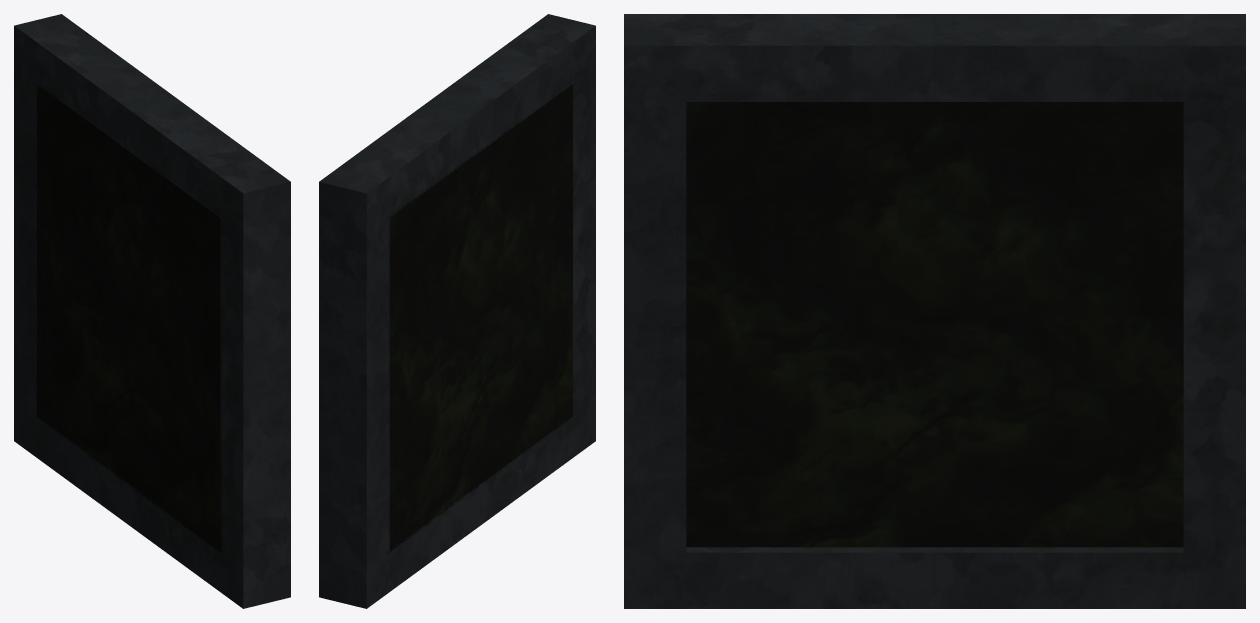
Rendered from tar.glb.
3 views of the same model, side by side, from view 1: azimuth 30°, elevation 25°; view 2: azimuth 150°, elevation 25°; view 3: azimuth 270°, elevation 25° (orthographic). The views are drawn at different scales.
Parts seen in each view (by area): view 1: mergedBlocks(Clone); view 2: mergedBlocks(Clone); view 3: mergedBlocks(Clone).
Boxes of the visible parts, x1,y1,x2,y2 form: mergedBlocks(Clone): (14, 14, 290, 608); mergedBlocks(Clone): (319, 14, 595, 608); mergedBlocks(Clone): (624, 14, 1245, 608).
Bounding box in the file's own units: 0.12 × 1 × 1.
Materials: 2 (2 with a texture image).
